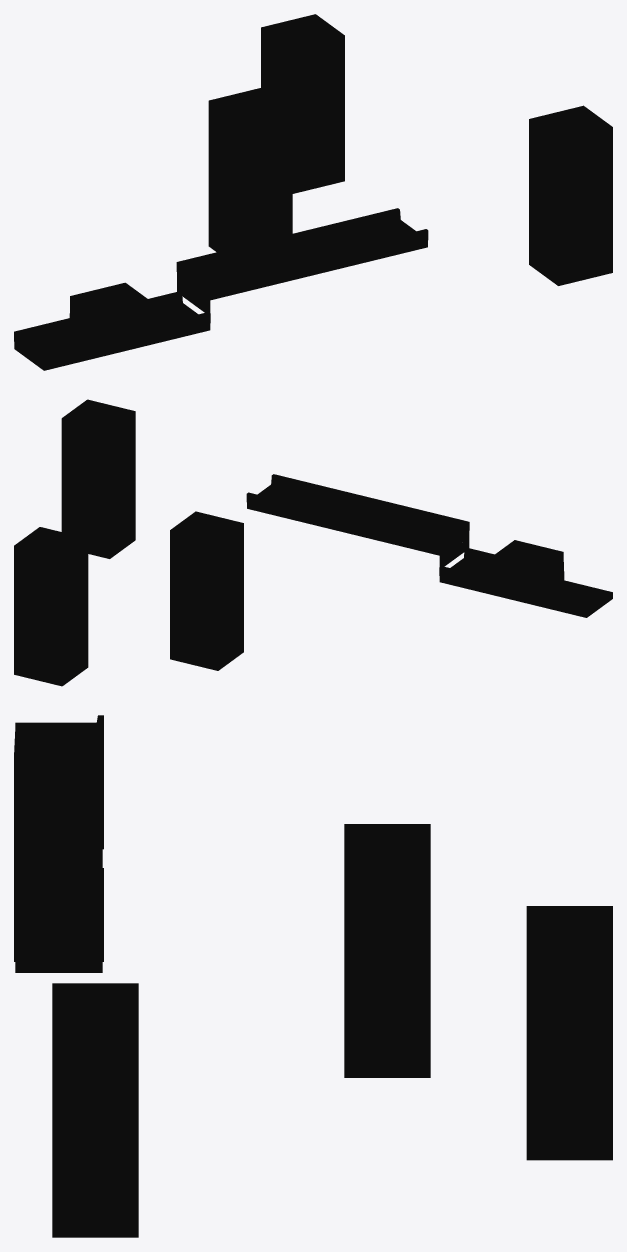
File: Chunk4.obj
3 views of the same model, one above another, from view 1: azimuth 30°, elevation 25°; view 2: azimuth 150°, elevation 25°; view 3: azimuth 270°, elevation 25° (orthographic). The views are drawn at different scales.
Bounding box in the file's own units: 1018 × 244 × 616.
